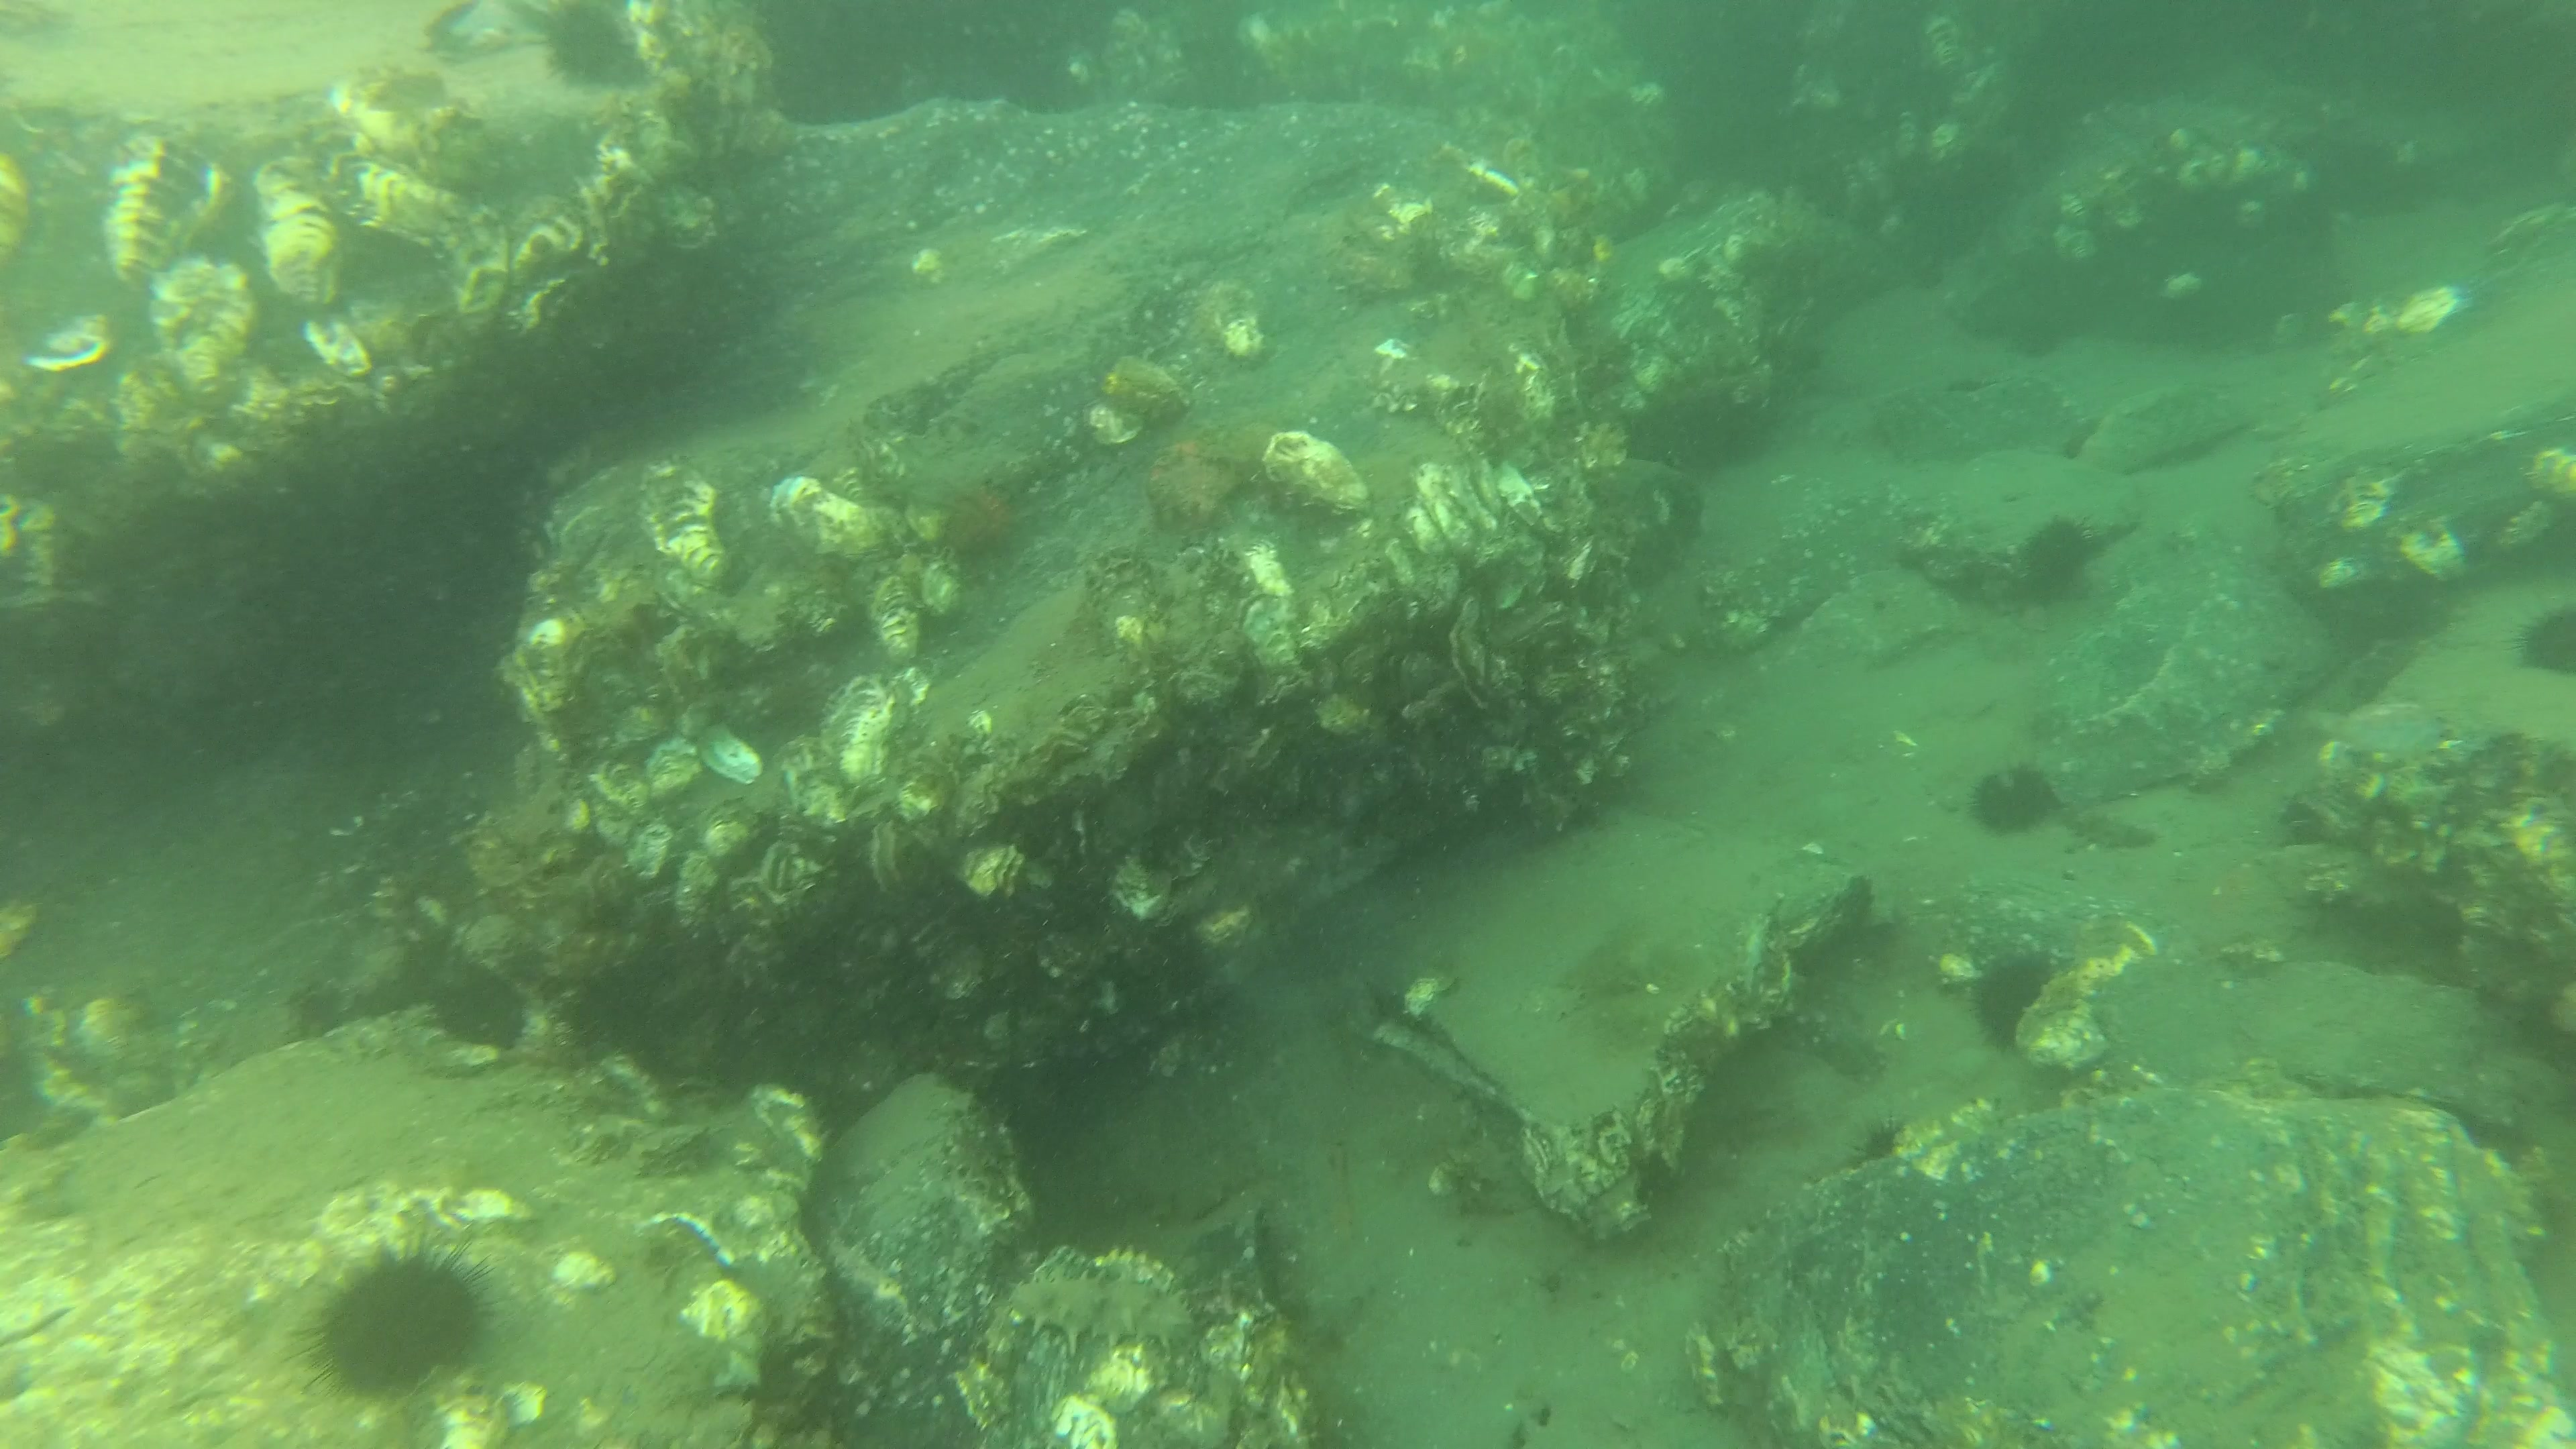echinus: (288, 1219, 494, 1396), (527, 4, 642, 92), (1974, 943, 2065, 1053), (1974, 759, 2065, 849), (2024, 511, 2104, 586), (2514, 603, 2576, 672), (1851, 1113, 1913, 1166)
